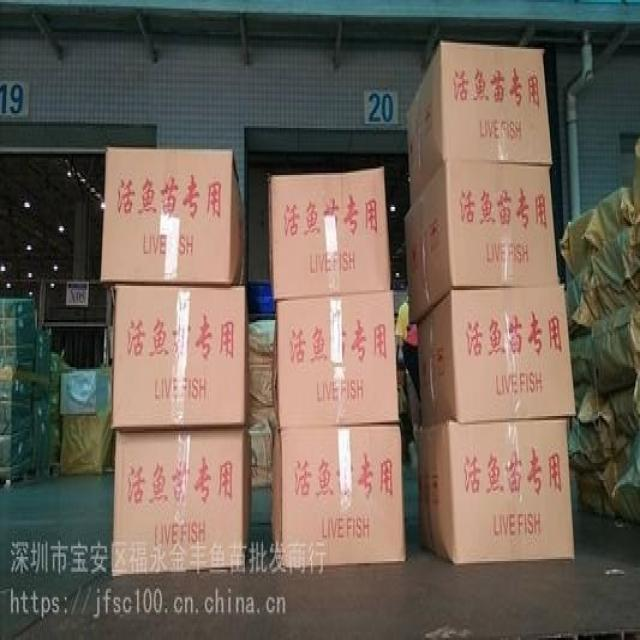box: (403, 160, 558, 329), (403, 41, 551, 209), (414, 286, 575, 431), (417, 422, 576, 563), (109, 431, 255, 578), (110, 286, 246, 431), (100, 145, 243, 282), (268, 429, 407, 565), (275, 290, 399, 429), (268, 166, 393, 301)
